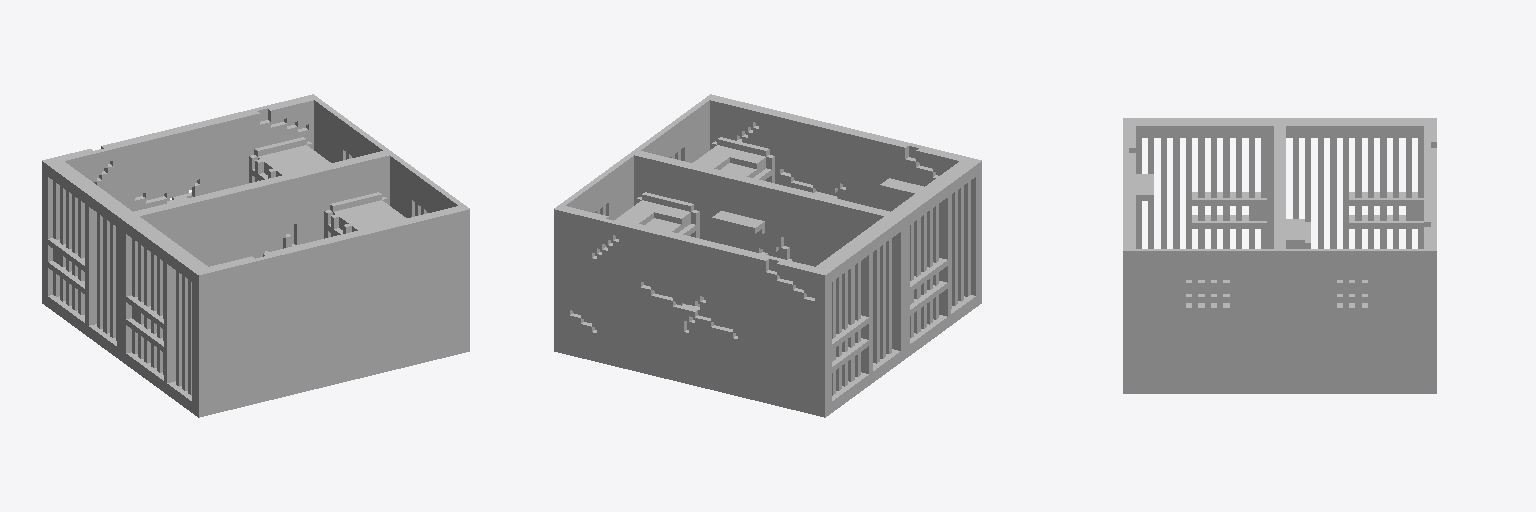
The model's file is Cell_Block rewamp.obj.
3 renders of one model, left to right at view 1: azimuth 30°, elevation 25°; view 2: azimuth 150°, elevation 25°; view 3: azimuth 270°, elevation 25°, orthographic.
Bounding box in the file's own units: 50 × 25 × 50.